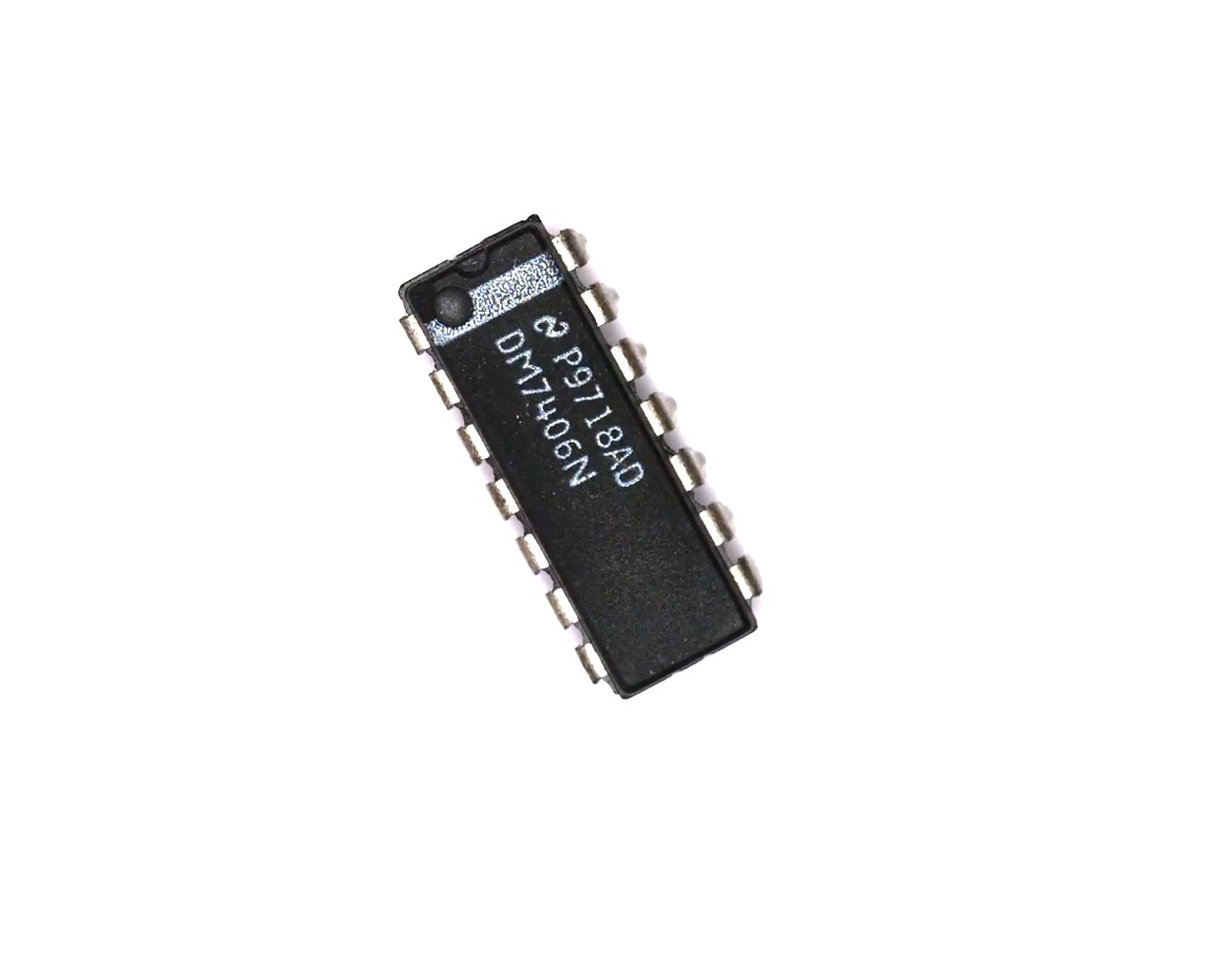IC: (364, 184, 795, 725)
notch: (450, 240, 496, 284)
